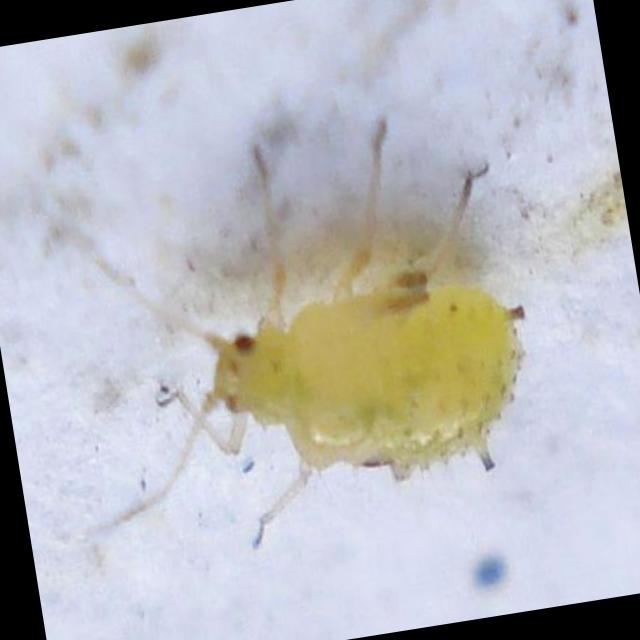Aphids: (19, 76, 590, 582)
